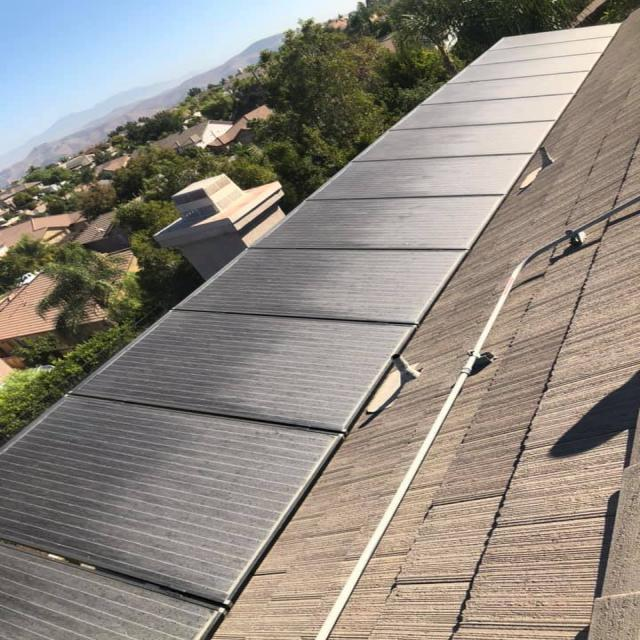Dusty: (102, 414, 339, 601), (182, 318, 410, 433), (273, 249, 463, 323), (335, 195, 499, 251), (383, 153, 535, 197), (413, 121, 551, 159), (441, 53, 606, 83), (422, 72, 588, 101), (466, 35, 613, 67), (442, 95, 572, 127)
